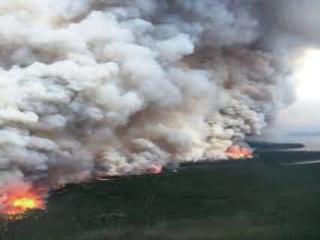fire: (4, 185, 47, 216), (225, 144, 264, 158)
smoke: (2, 4, 205, 175), (180, 1, 286, 147)
